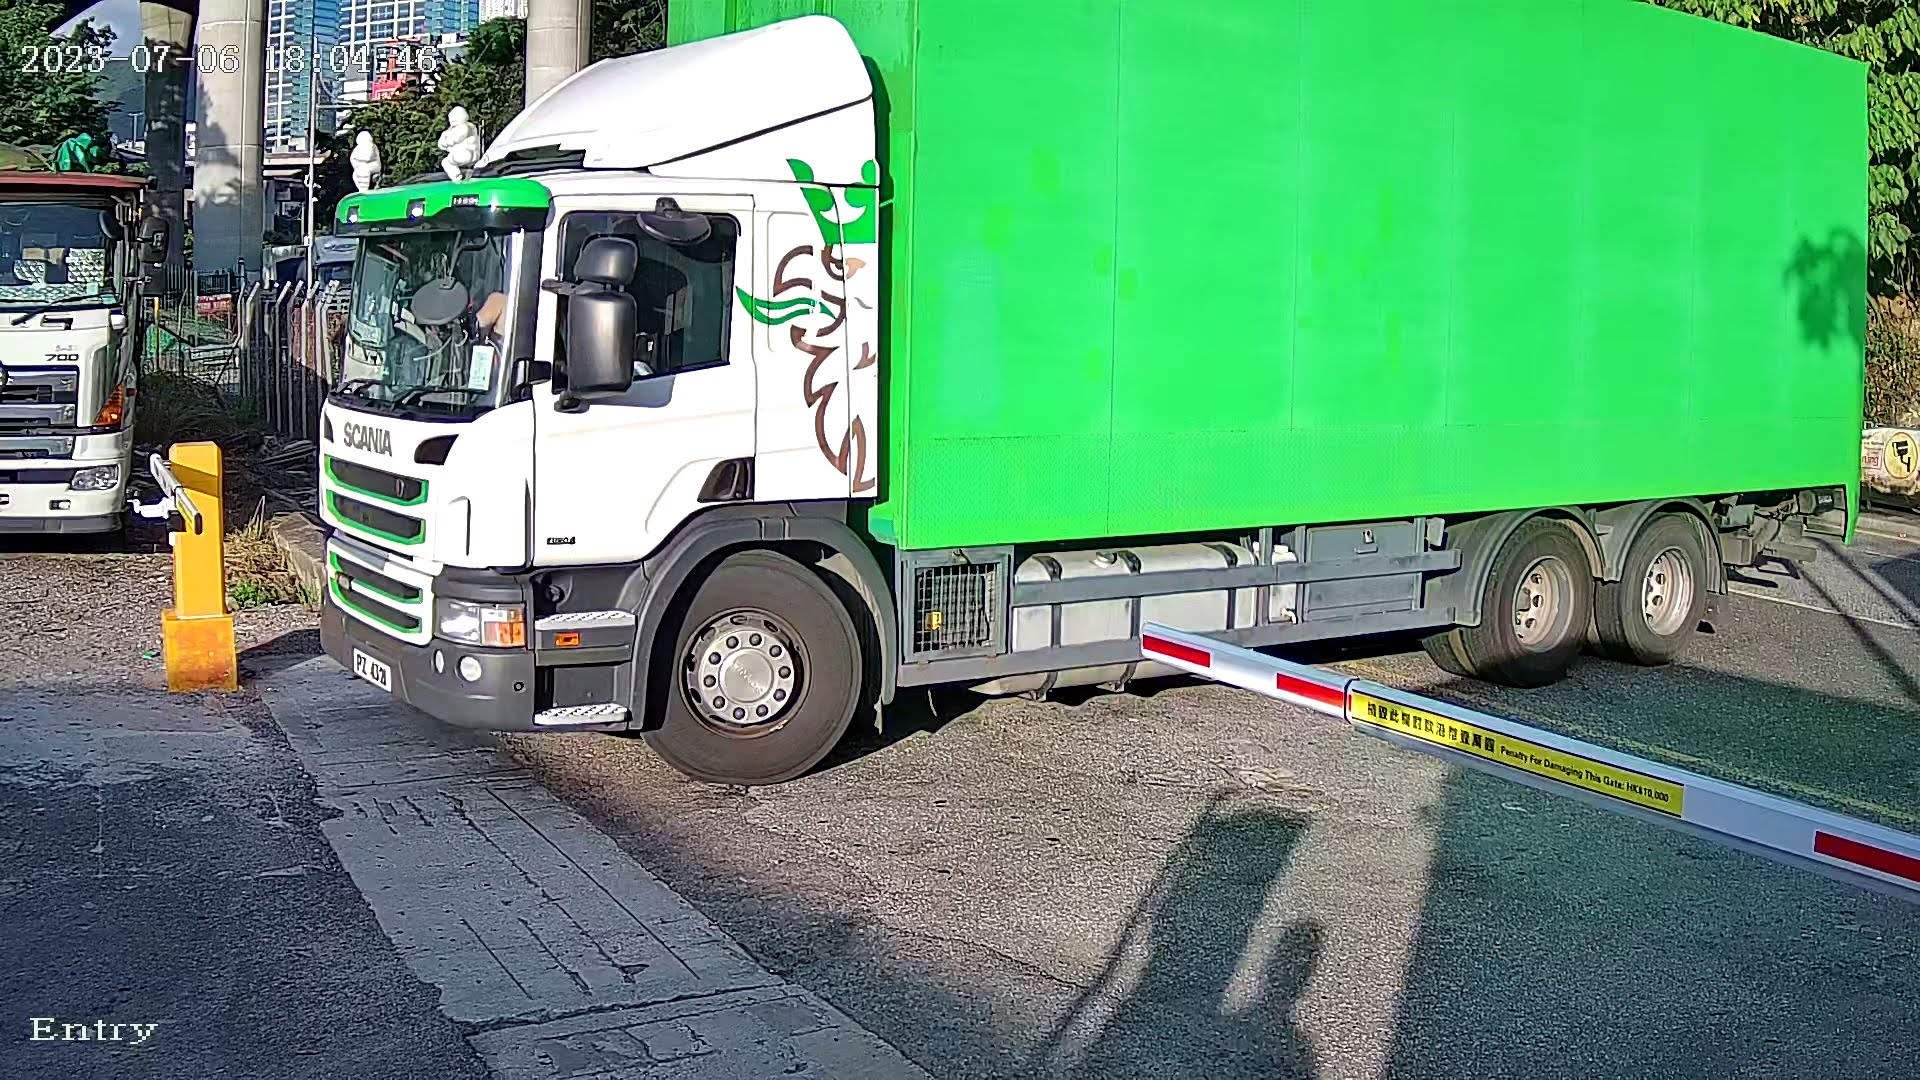truck: (285, 1, 1879, 822)
